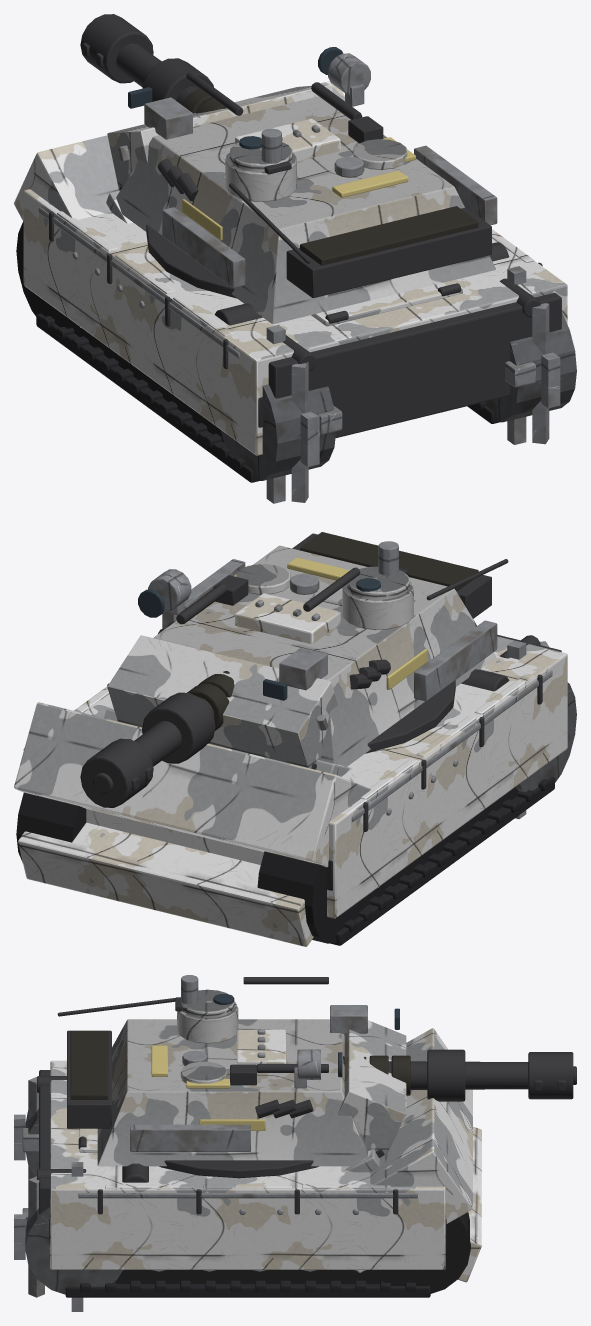
File: tank_player.glb
3 views of the same model, one above another, from view 1: azimuth 30°, elevation 25°; view 2: azimuth 150°, elevation 25°; view 3: azimuth 270°, elevation 25° (orthographic). The views are drawn at different scales.
Parts seen in each view (by area): view 1: HullMesh, TurretMesh, BarrelMesh, Wheel_L_sprocket, Wheel_R_sprocket, Wheel_L_idler; view 2: HullMesh, TurretMesh, BarrelMesh, Wheel_L_idler, Wheel_R_idler, Wheel_L_sprocket; view 3: HullMesh, TurretMesh, BarrelMesh, Wheel_R_sprocket, Wheel_R_idler, Wheel_L_sprocket, Wheel_R1, Wheel_R3, Wheel_R2, Wheel_R4, Wheel_R0.
Boxes of the visible parts, bbox=[...] form: HullMesh: bbox=[14, 81, 567, 482]; TurretMesh: bbox=[107, 47, 497, 324]; BarrelMesh: bbox=[80, 14, 340, 161]; Wheel_L_sprocket: bbox=[220, 325, 335, 503]; Wheel_R_sprocket: bbox=[485, 266, 576, 444]; Wheel_L_idler: bbox=[16, 221, 75, 328]; HullMesh: bbox=[14, 634, 567, 946]; TurretMesh: bbox=[107, 532, 508, 768]; BarrelMesh: bbox=[80, 593, 340, 807]; Wheel_L_idler: bbox=[257, 851, 368, 943]; Wheel_R_idler: bbox=[16, 792, 86, 862]; Wheel_L_sprocket: bbox=[507, 640, 576, 819]; HullMesh: bbox=[22, 1028, 481, 1297]; TurretMesh: bbox=[57, 975, 406, 1178]; BarrelMesh: bbox=[237, 1029, 576, 1101]; Wheel_R_sprocket: bbox=[14, 1162, 122, 1311]; Wheel_R_idler: bbox=[373, 1212, 470, 1293]; Wheel_L_sprocket: bbox=[14, 1077, 38, 1179]; Wheel_R1: bbox=[276, 1270, 343, 1283]; Wheel_R3: bbox=[175, 1270, 243, 1283]; Wheel_R2: bbox=[226, 1270, 293, 1283]; Wheel_R4: bbox=[125, 1270, 192, 1283]; Wheel_R0: bbox=[326, 1270, 381, 1283].
Size of the model in its own units: 3.46 by 3.17 by 6.26.
Materials: 11 (2 with a texture image).
